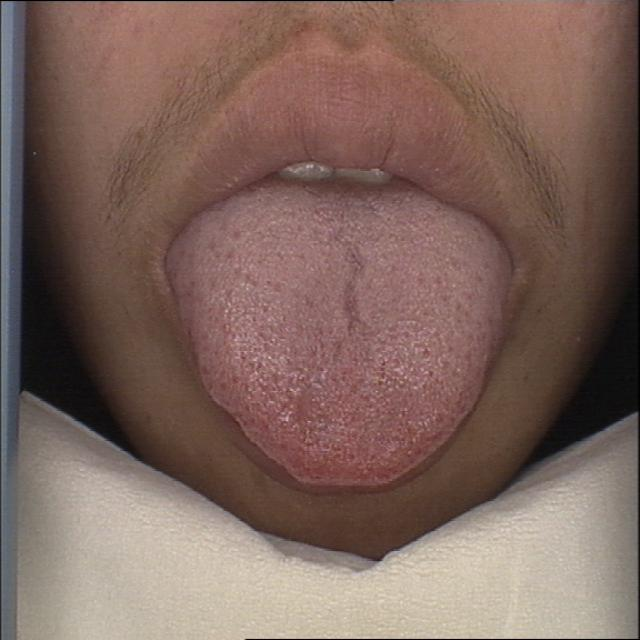tongue: (165, 207, 523, 497)
